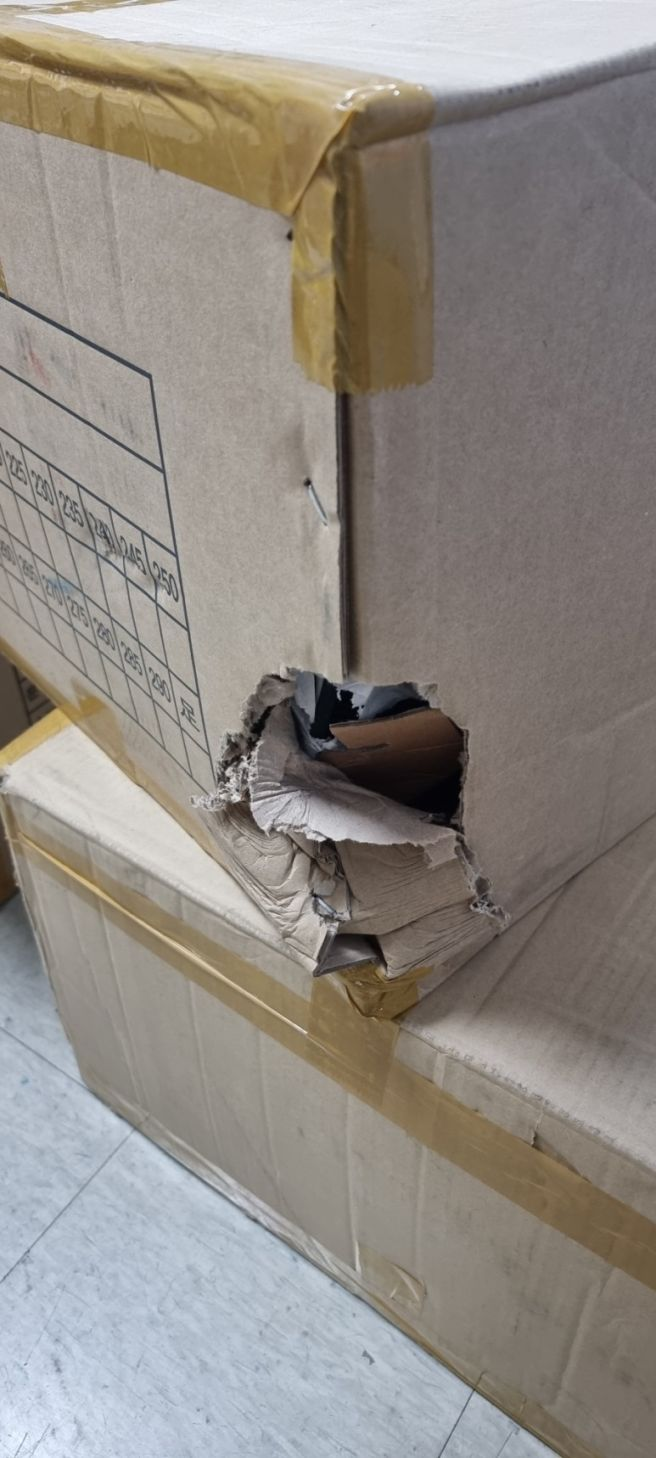damaged package: (203, 644, 496, 880)
